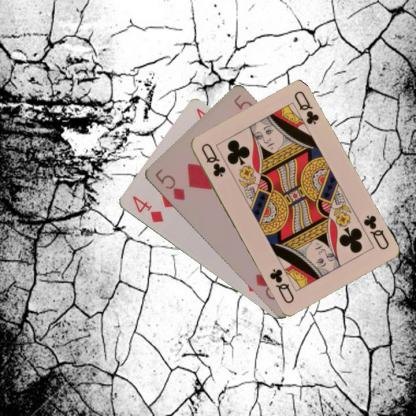4d: (129, 193, 165, 224)
5d: (152, 166, 186, 202)
Qc: (360, 212, 390, 251), (198, 140, 227, 178)
